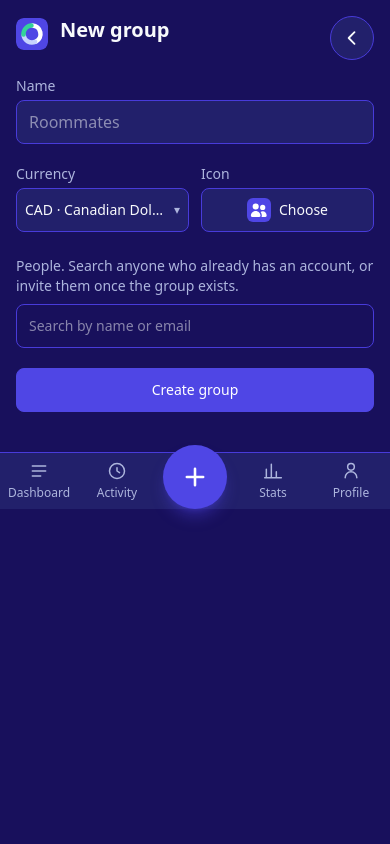
NewGroupView › opens the icon picker rather than asking someone to type a name
Click the button "Choose".
click(288, 210)  # box top-left (201, 188), bottom-right (374, 232)
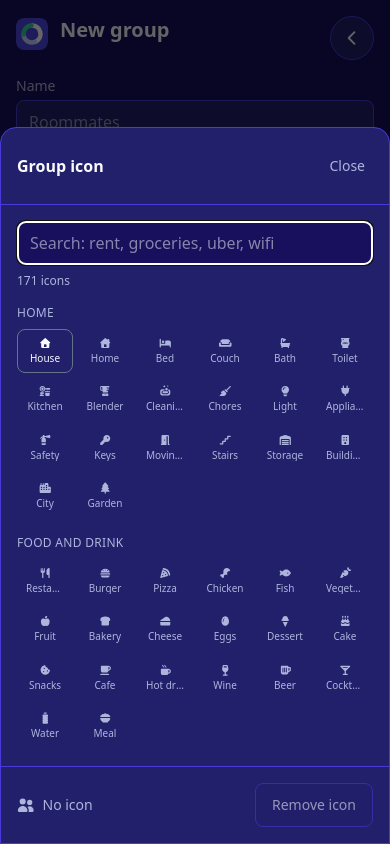
Expected: the dialog is shown
